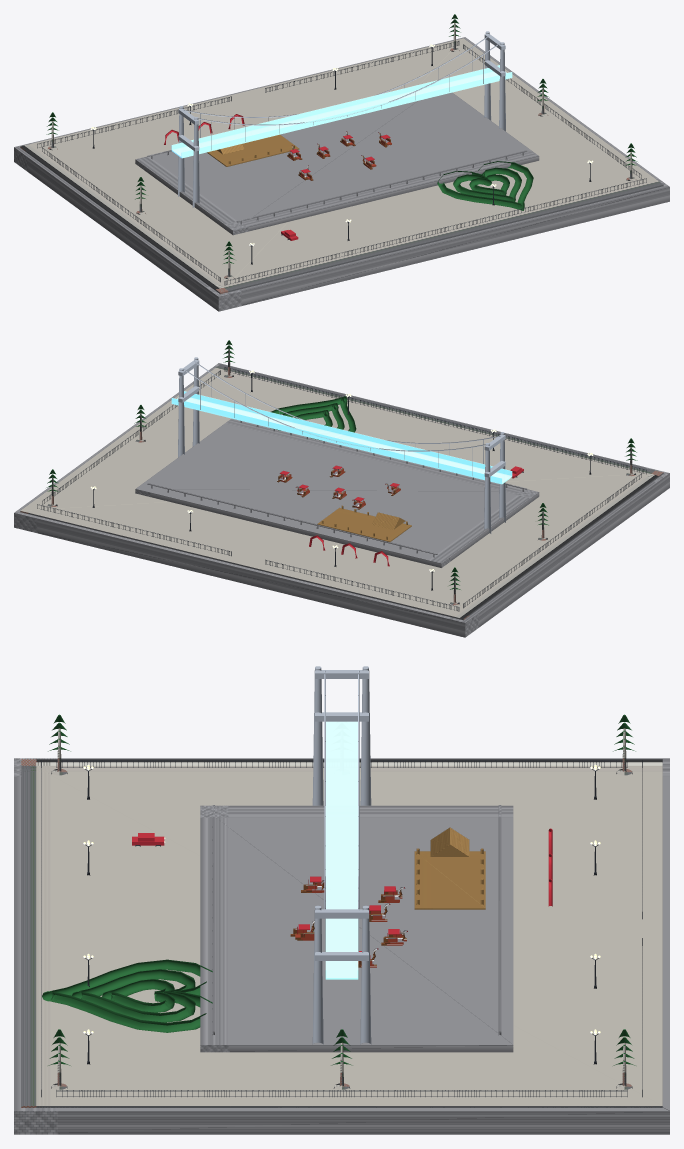
Rendered from ultra_lm_17_thung_lung_tinh_yeu.glb.
The picture shows the model from 3 angles, top to bottom: view 1: azimuth 30°, elevation 25°; view 2: azimuth 150°, elevation 25°; view 3: azimuth 270°, elevation 25°; orthographic projection. The views are drawn at different scales.
Visible parts, largest first — view 1: ValleyOfLove_Promenade_GraniteCurb_And_WormBrick, HoDaThien_GraniteDam_Balustrades_And_Copernicus_Skirt, CauKinhNganThong_7D_GlassSkywalk_Blend085, ValleyOfLove_WroughtIron_And_5Globe_Streetlamps, CauKinhNganThong_SuspensionTowers_And_Cables, LoveLabyrinth_24k_Ficus_Heart_Hedges, HoDaThien_SwanDock_TimberPier_And_Pavilion, HoDaThien_3DSwanPedalBoats_Fleet, ValleyOfLove_RoseArches_SwanTrim_And_VintageCar; view 2: ValleyOfLove_Promenade_GraniteCurb_And_WormBrick, HoDaThien_GraniteDam_Balustrades_And_Copernicus_Skirt, CauKinhNganThong_7D_GlassSkywalk_Blend085, ValleyOfLove_WroughtIron_And_5Globe_Streetlamps, CauKinhNganThong_SuspensionTowers_And_Cables, LoveLabyrinth_24k_Ficus_Heart_Hedges, HoDaThien_SwanDock_TimberPier_And_Pavilion, ValleyOfLove_RoseArches_SwanTrim_And_VintageCar, HoDaThien_3DSwanPedalBoats_Fleet; view 3: ValleyOfLove_Promenade_GraniteCurb_And_WormBrick, HoDaThien_GraniteDam_Balustrades_And_Copernicus_Skirt, LoveLabyrinth_24k_Ficus_Heart_Hedges, CauKinhNganThong_7D_GlassSkywalk_Blend085, CauKinhNganThong_SuspensionTowers_And_Cables, ValleyOfLove_WroughtIron_And_5Globe_Streetlamps, HoDaThien_SwanDock_TimberPier_And_Pavilion, HoDaThien_3DSwanPedalBoats_Fleet, ValleyOfLove_RoseArches_SwanTrim_And_VintageCar.
Part boxes in pixels (x1,y1,x2,y2): ValleyOfLove_Promenade_GraniteCurb_And_WormBrick: (20, 22, 663, 294); HoDaThien_GraniteDam_Balustrades_And_Copernicus_Skirt: (14, 37, 669, 311); CauKinhNganThong_7D_GlassSkywalk_Blend085: (171, 65, 512, 158); ValleyOfLove_WroughtIron_And_5Globe_Streetlamps: (37, 41, 646, 285); CauKinhNganThong_SuspensionTowers_And_Cables: (178, 31, 505, 207); LoveLabyrinth_24k_Ficus_Heart_Hedges: (46, 14, 637, 263); HoDaThien_SwanDock_TimberPier_And_Pavilion: (207, 134, 298, 166); HoDaThien_3DSwanPedalBoats_Fleet: (287, 132, 391, 180); ValleyOfLove_RoseArches_SwanTrim_And_VintageCar: (164, 114, 390, 240); ValleyOfLove_Promenade_GraniteCurb_And_WormBrick: (20, 348, 663, 620); HoDaThien_GraniteDam_Balustrades_And_Copernicus_Skirt: (14, 363, 669, 637); CauKinhNganThong_7D_GlassSkywalk_Blend085: (171, 391, 512, 484); ValleyOfLove_WroughtIron_And_5Globe_Streetlamps: (37, 367, 646, 611); CauKinhNganThong_SuspensionTowers_And_Cables: (178, 357, 505, 533); LoveLabyrinth_24k_Ficus_Heart_Hedges: (46, 340, 637, 589); HoDaThien_SwanDock_TimberPier_And_Pavilion: (317, 505, 411, 541); ValleyOfLove_RoseArches_SwanTrim_And_VintageCar: (280, 465, 523, 566); HoDaThien_3DSwanPedalBoats_Fleet: (277, 468, 400, 509); ValleyOfLove_Promenade_GraniteCurb_And_WormBrick: (21, 728, 662, 1107); HoDaThien_GraniteDam_Balustrades_And_Copernicus_Skirt: (14, 758, 669, 1134); LoveLabyrinth_24k_Ficus_Heart_Hedges: (42, 714, 635, 1065); CauKinhNganThong_7D_GlassSkywalk_Blend085: (325, 721, 358, 979); CauKinhNganThong_SuspensionTowers_And_Cables: (312, 666, 371, 1043); ValleyOfLove_WroughtIron_And_5Globe_Streetlamps: (41, 760, 642, 1097); HoDaThien_SwanDock_TimberPier_And_Pavilion: (414, 827, 485, 909); HoDaThien_3DSwanPedalBoats_Fleet: (290, 880, 406, 967); ValleyOfLove_RoseArches_SwanTrim_And_VintageCar: (132, 828, 552, 959).
Bounding box in the file's own units: 112 × 25.32 × 88.
Materials: 11 (4 with a texture image).
